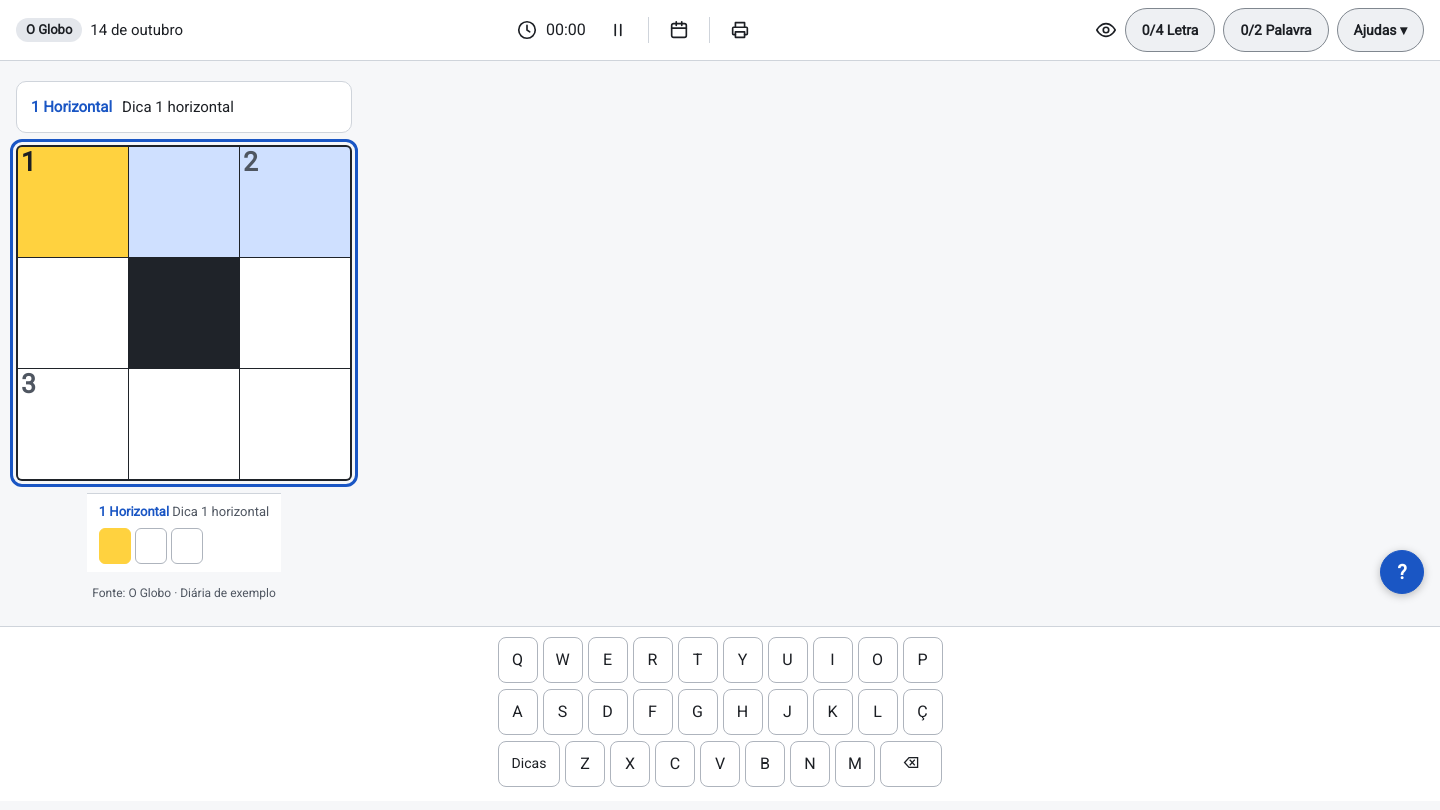
Scenario: GamePage › dica riscada só ao acertar (feature 016) › no celular, a lista "Dicas" mostra a dica resolvida
Check: the table is shown, box [16,145,352,481]
Click the button "C" at (675, 764), box [655,740,695,786]
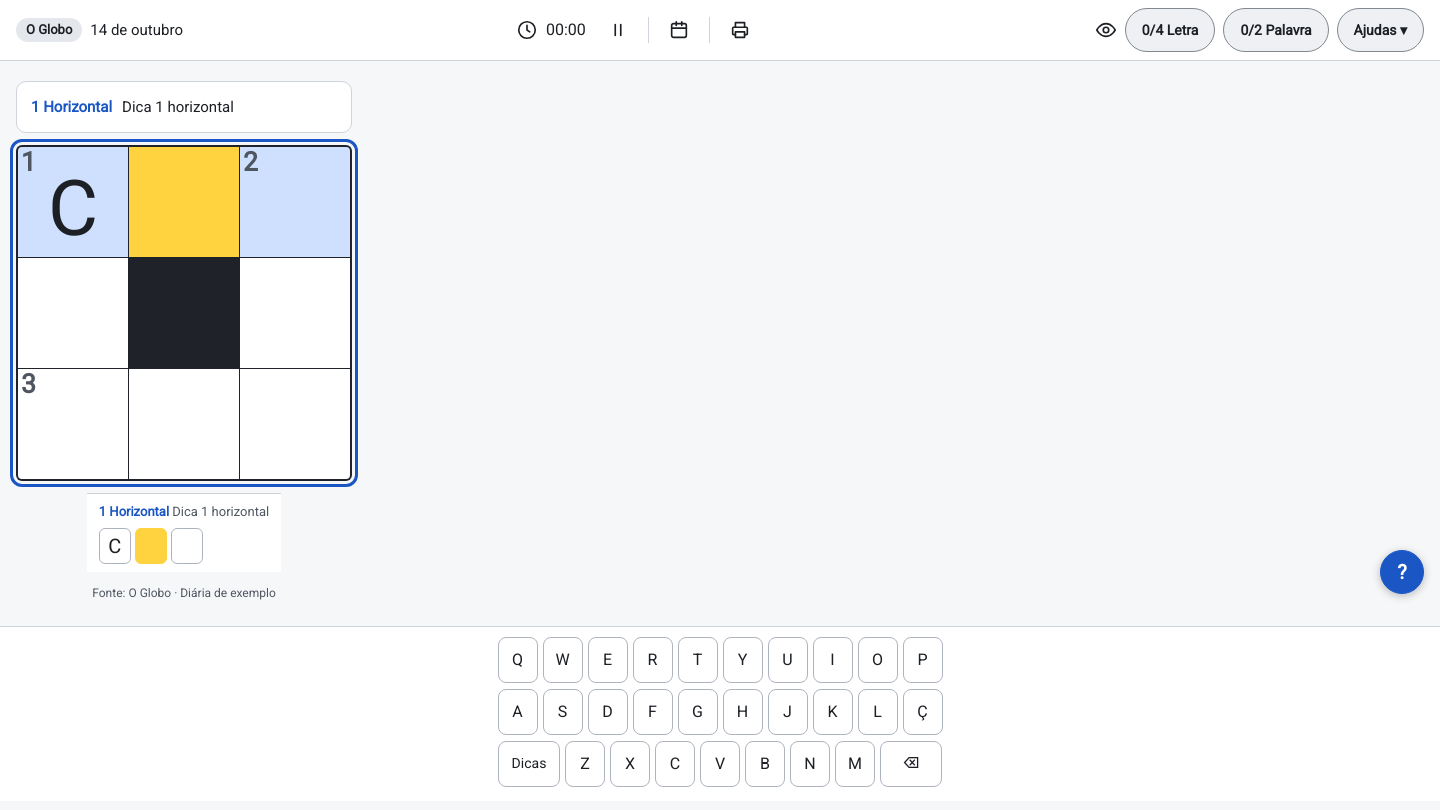
Click the button "A" at (518, 712), box [498,688,538,734]
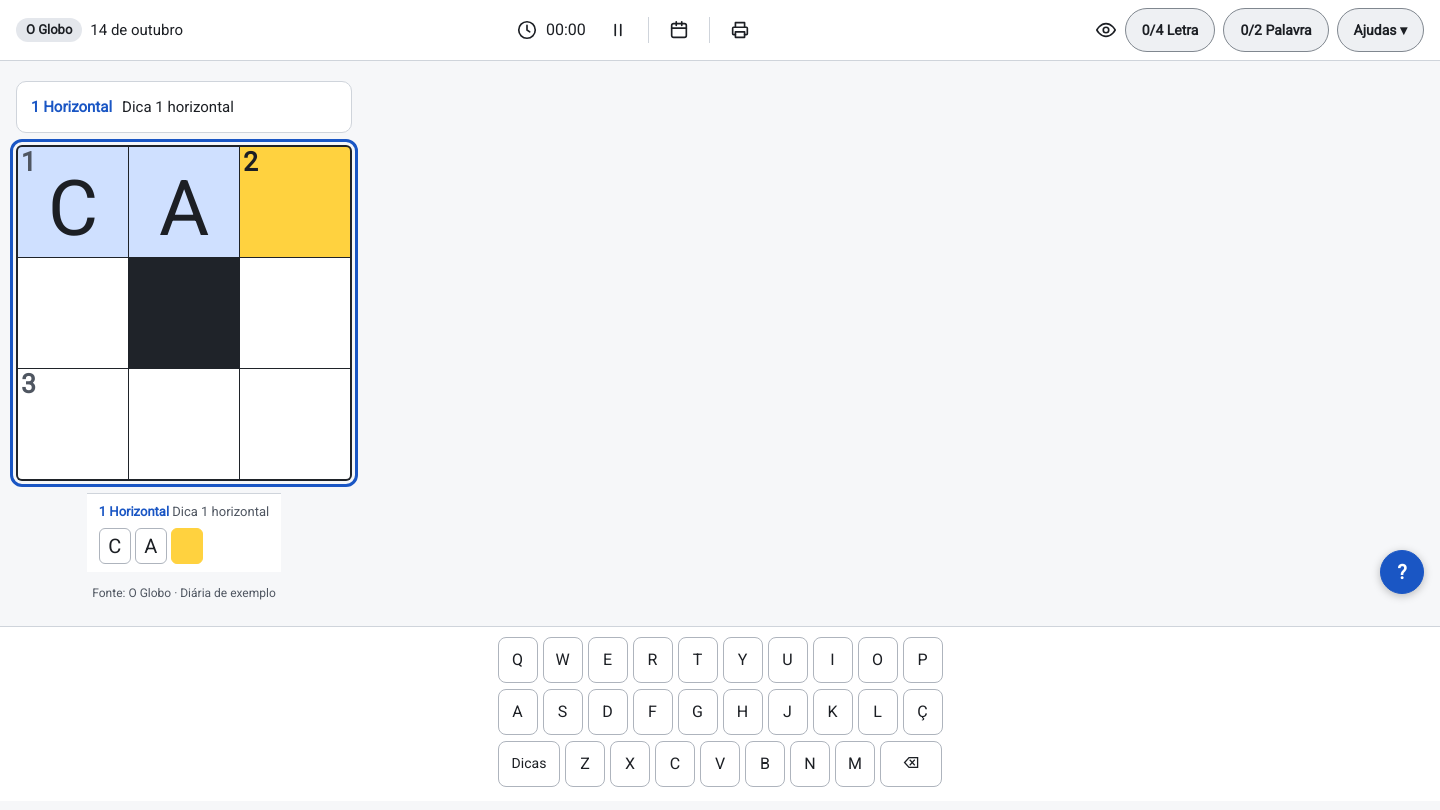
Click the button "L" at (878, 712), box [858,688,898,734]
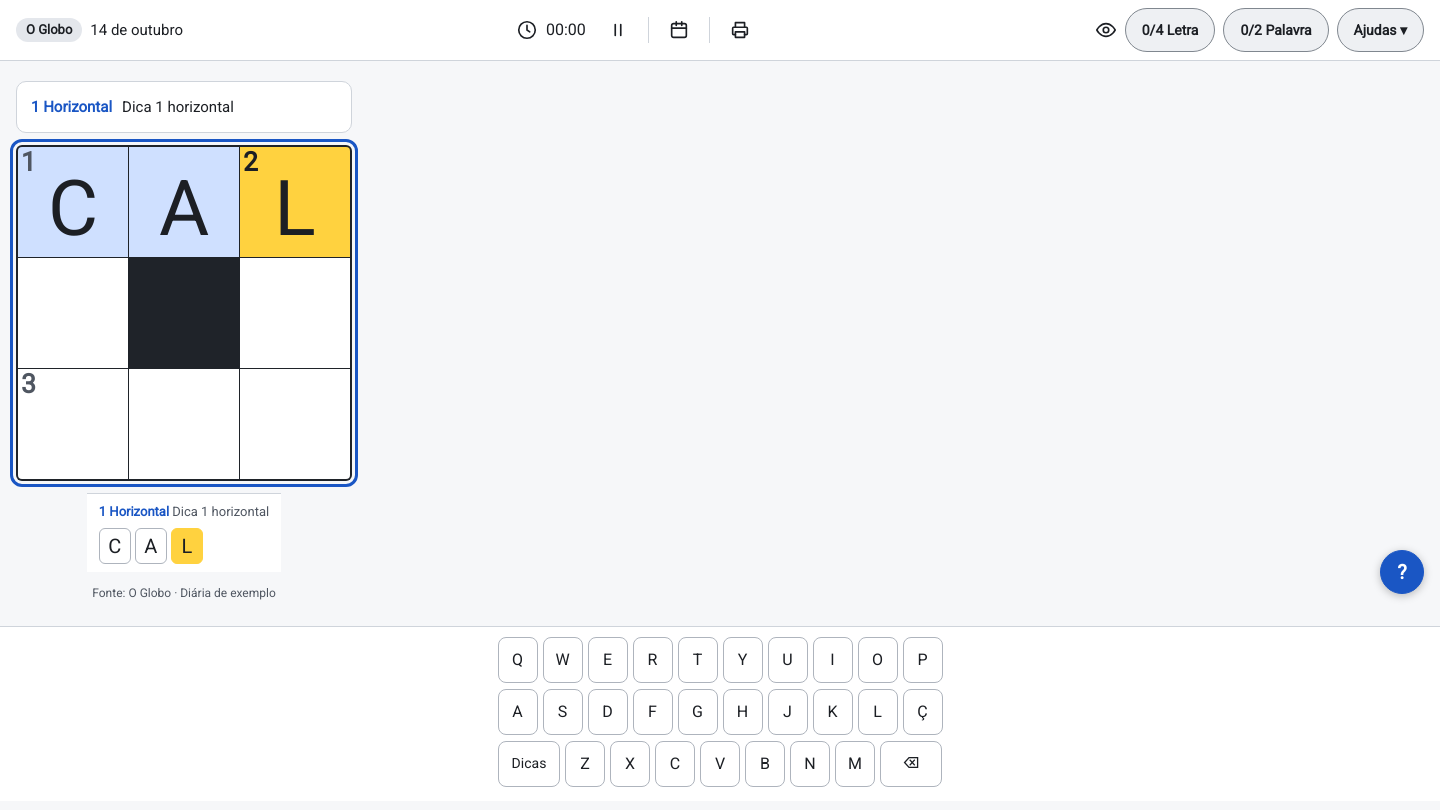
Click the button "Dicas" at (529, 764), box [498,740,560,786]
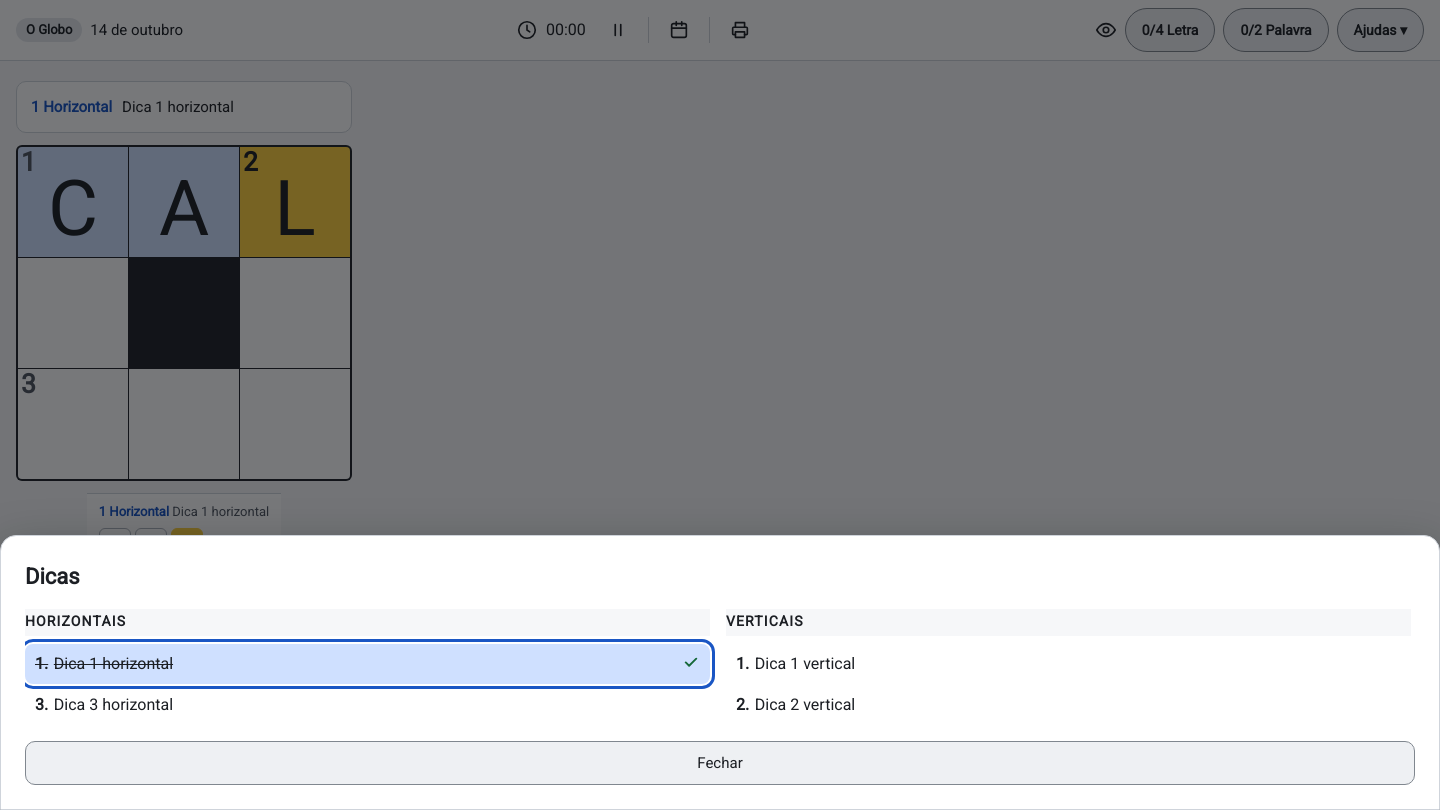
Check: the button "1Dica 1 horizontal" is shown, box [25,644,710,684]
Check: the button "1Dica 1 vertical" is shown, box [726,644,1411,684]
